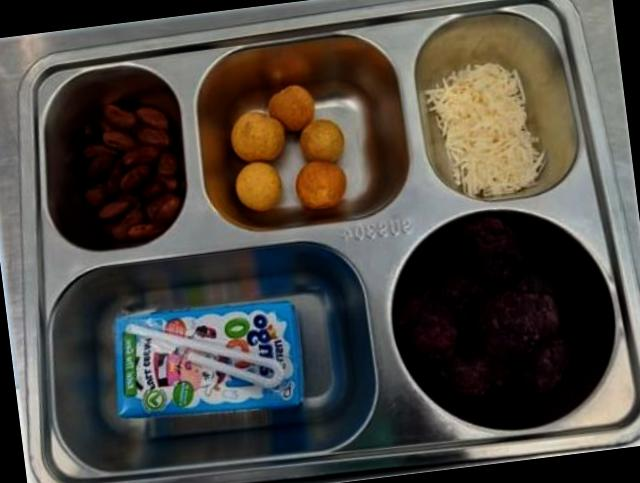buah: (230, 85, 314, 212)
kacang: (75, 102, 184, 244)
keju: (426, 63, 544, 197)
susu: (114, 301, 302, 418)
